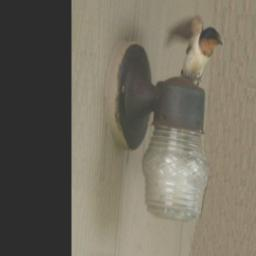Swallow: (161, 7, 225, 91)
